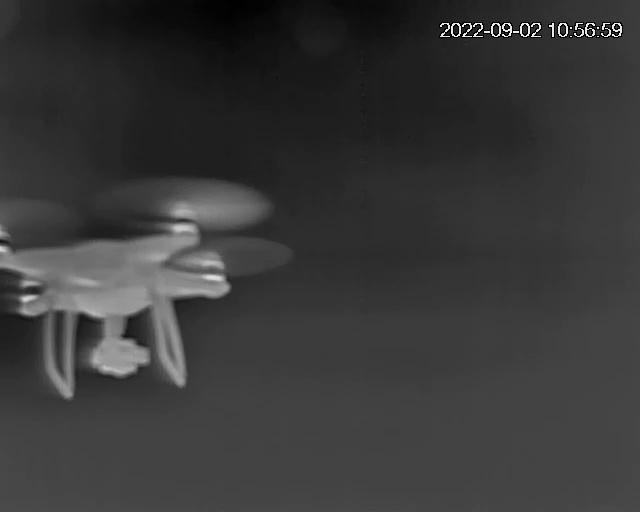DJI-Phantom: (0, 200, 238, 398)
